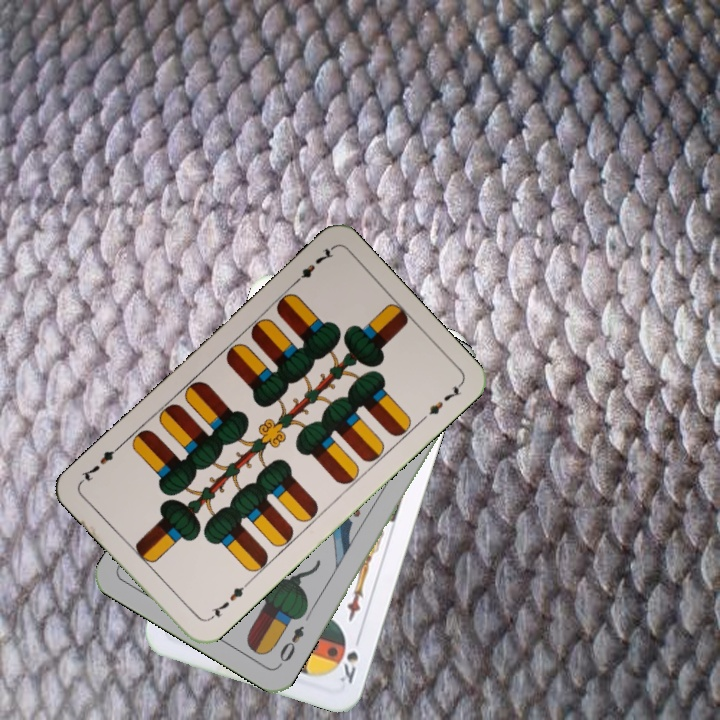E7: (288, 243, 337, 288), (204, 578, 251, 624)
EO: (274, 621, 307, 669)
SK: (334, 633, 361, 688)
